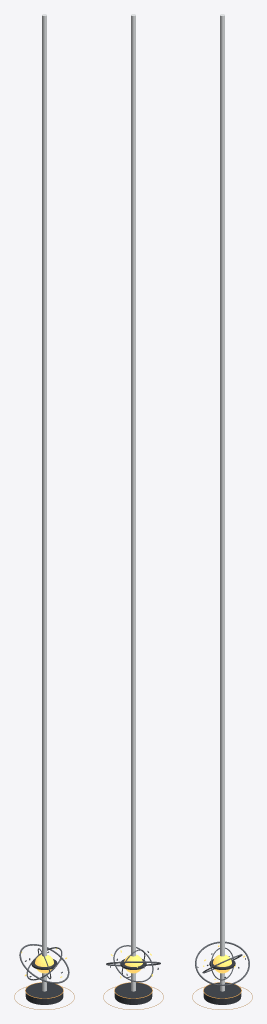
The model's file is 01_astrolabe_hero_core.glb.
The picture shows the model from 3 angles, left to right: view 1: azimuth 30°, elevation 25°; view 2: azimuth 150°, elevation 25°; view 3: azimuth 330°, elevation 25°; orthographic projection.
Visible parts, largest first — view 1: Vertical_Conduit_Outer_Sheath, Astrolabe_Containment_Pedestal, Astrolabe_Gimbal_Ring_Outer, Astrolabe_Central_Reactor_Core; view 2: Vertical_Conduit_Outer_Sheath, Astrolabe_Containment_Pedestal, Astrolabe_Central_Reactor_Core, Astrolabe_Gimbal_Ring_Mid; view 3: Vertical_Conduit_Outer_Sheath, Astrolabe_Containment_Pedestal, Astrolabe_Gimbal_Ring_Outer, Astrolabe_Central_Reactor_Core.
Part boxes in pixels (x1,y1,x2,y2): Vertical_Conduit_Outer_Sheath: (42, 14, 46, 991); Astrolabe_Containment_Pedestal: (25, 982, 63, 1004); Astrolabe_Gimbal_Ring_Outer: (19, 944, 69, 983); Astrolabe_Central_Reactor_Core: (35, 954, 53, 973); Vertical_Conduit_Outer_Sheath: (131, 14, 135, 991); Astrolabe_Containment_Pedestal: (114, 982, 152, 1004); Astrolabe_Central_Reactor_Core: (124, 954, 142, 973); Astrolabe_Gimbal_Ring_Mid: (113, 945, 153, 982); Vertical_Conduit_Outer_Sheath: (220, 14, 224, 991); Astrolabe_Containment_Pedestal: (203, 982, 241, 1004); Astrolabe_Gimbal_Ring_Outer: (195, 941, 249, 985); Astrolabe_Central_Reactor_Core: (213, 954, 231, 973).
Size of the model in its own units: 9.05 by 162 by 9.05.
